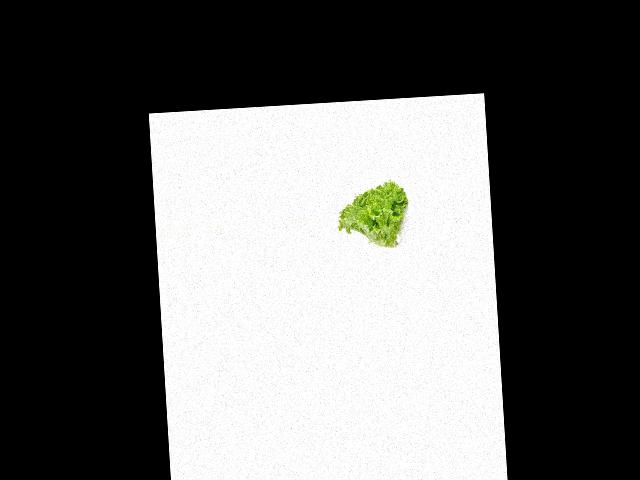lettuce: (333, 175, 411, 255)
